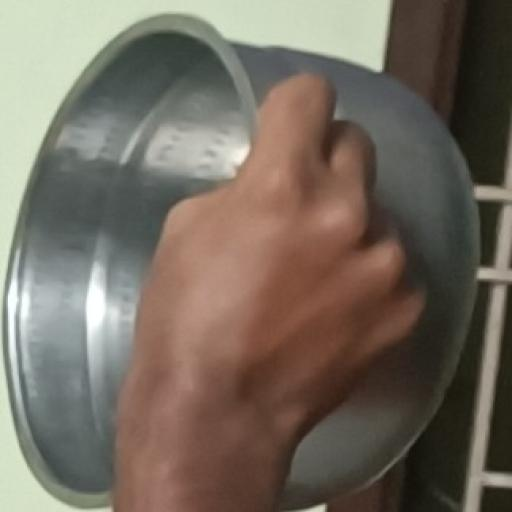vessel: (0, 12, 481, 511)
